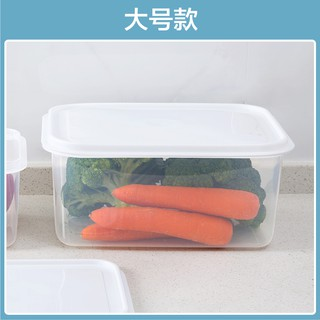PlasticBox: (38, 99, 296, 251)
